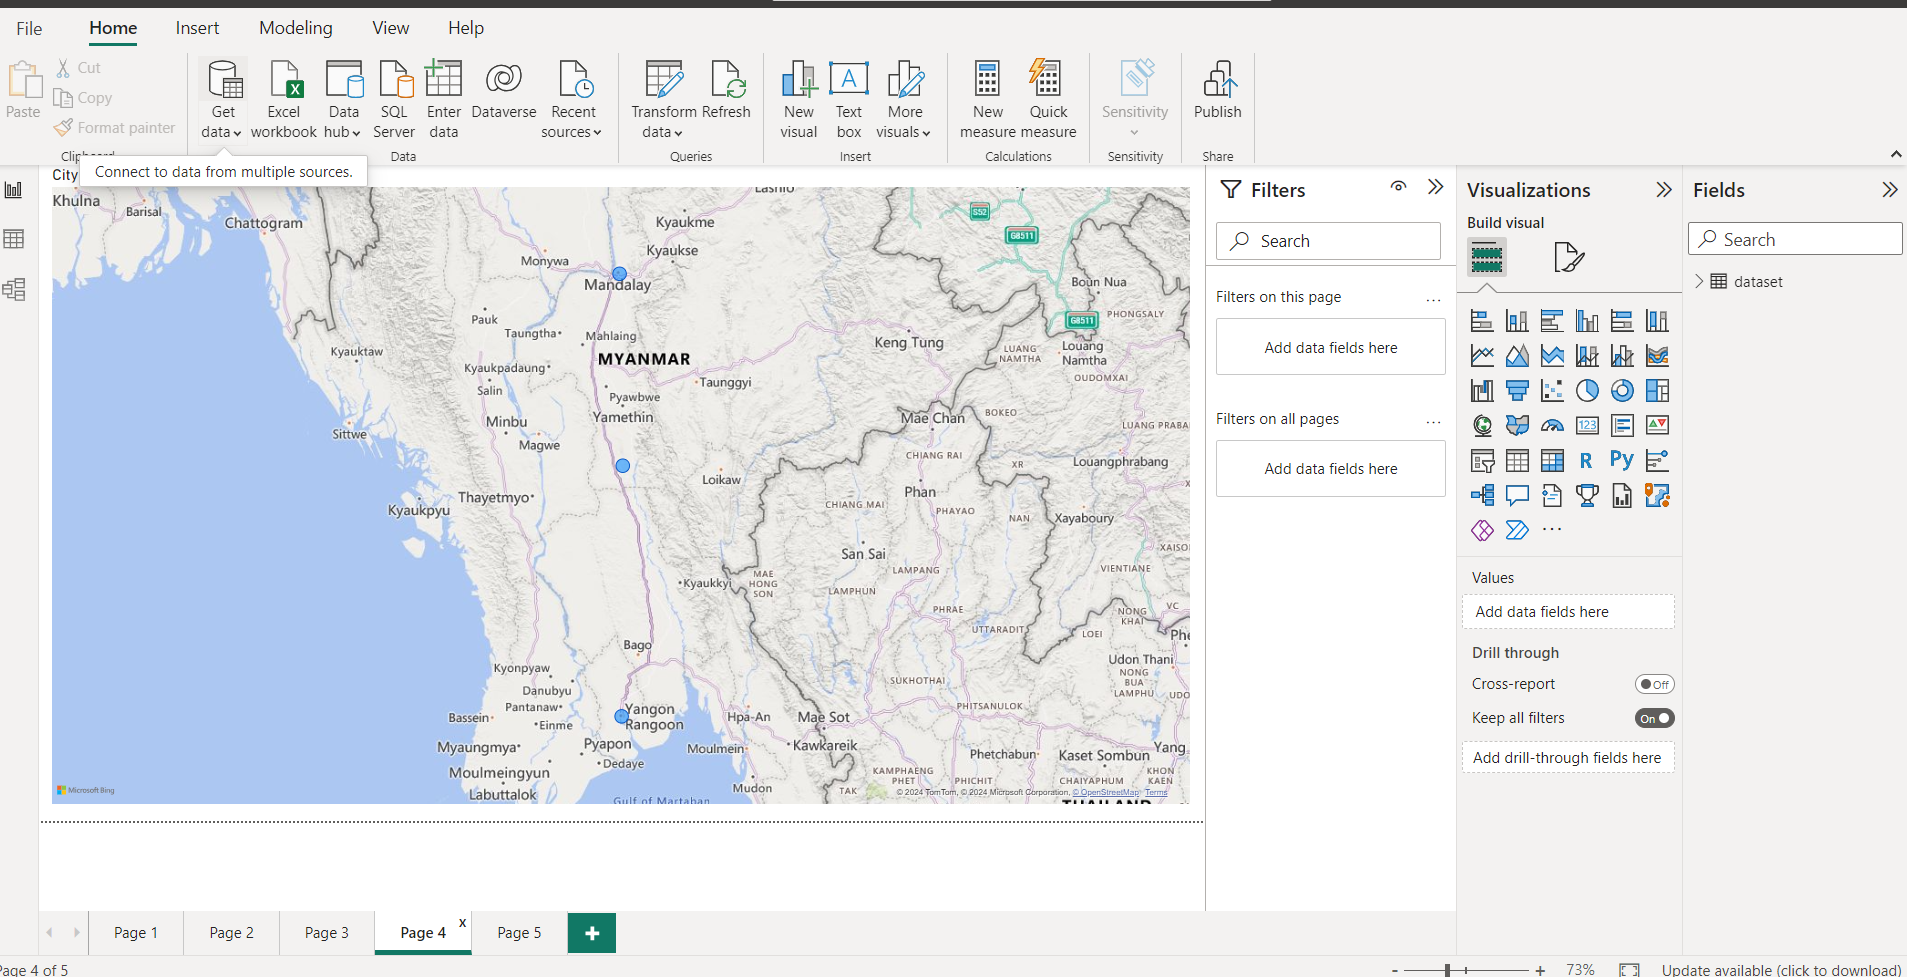

The page's visual inventory and layout, read from the dashboard file:
{"tool":"powerbi","page":{"name":"Page 4","canvas":[1280,720],"ordinal":3},"visuals":[{"type":"map","fields":{"Category":["dataset.City"]},"box":[9.6,0,1259.4,705.9],"z":0}]}

Visuals, with their boxes on the page's 1280x720 design canvas (x1, y1, x2, y2). These are canvas units, not pixel positions in the 1907x977 screenshot, which may show the page scaled, cropped or inside an application window:
map - dataset.City: <box>10,0,1269,706</box>
